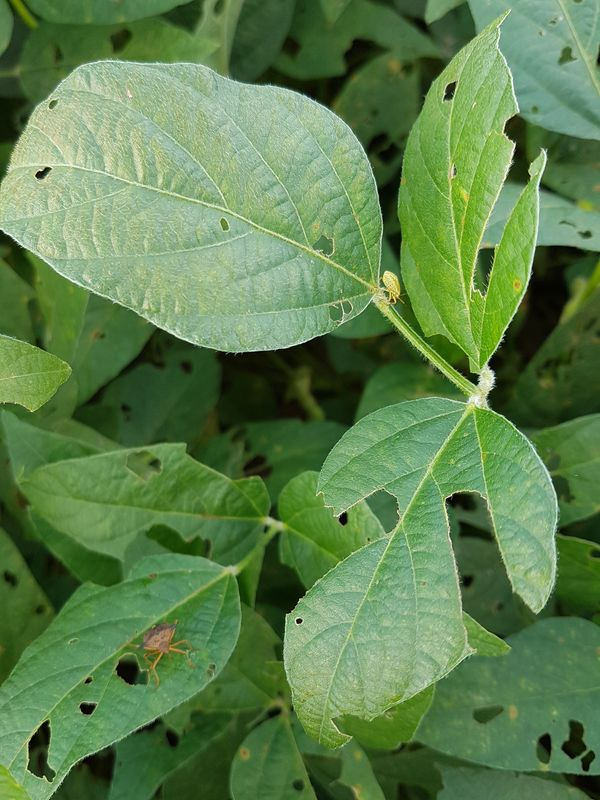Euschistus_heros_adulto: (119, 611, 202, 692)
Nezara_viridula_ninfa: (372, 264, 414, 310)
